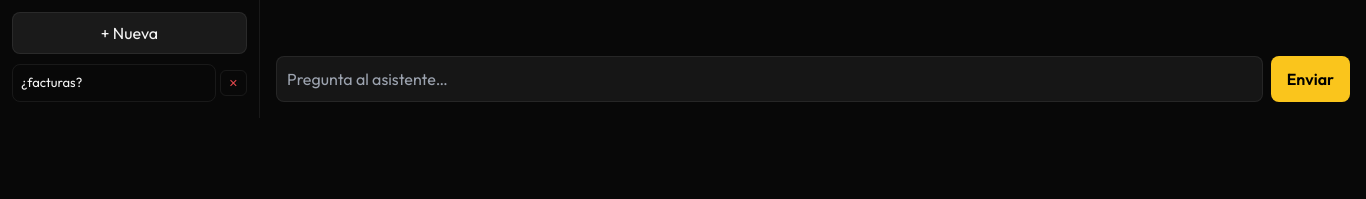
Test: sends a message and streams the assistant tokens
The image size is (1366, 199).
Type "hola" into the field named "mensaje" at (769, 78), box [276,56,1263,102]
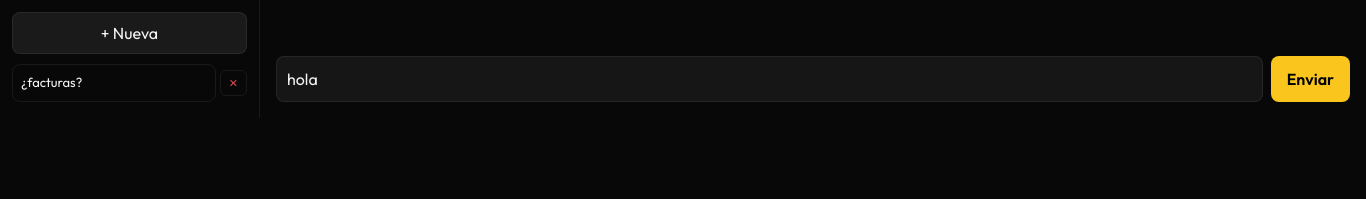
Click the button labelled "Enviar" at (1310, 78), box [1271,56,1350,102]
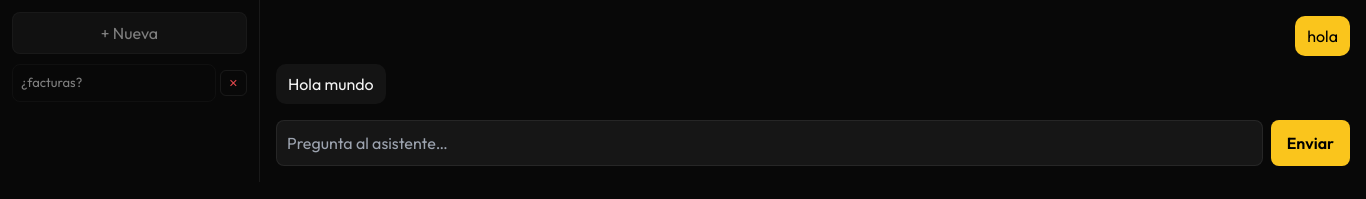
Expected: the text with test id "msg-user" reads "hola", [1307,26,1338,46]
Expected: the text with test id "msg-assistant" reads "Hola mundo", [288,74,374,94]
